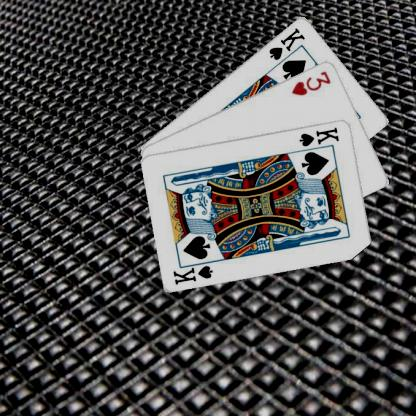3H: (289, 67, 333, 97)
KS: (266, 24, 306, 62), (171, 257, 216, 285), (296, 124, 340, 147)
